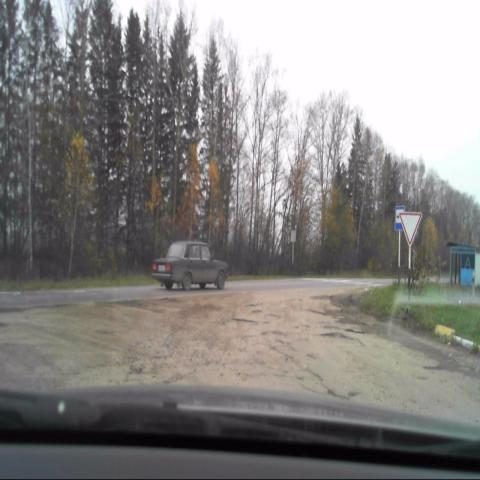2_4: (400, 212, 422, 245)
